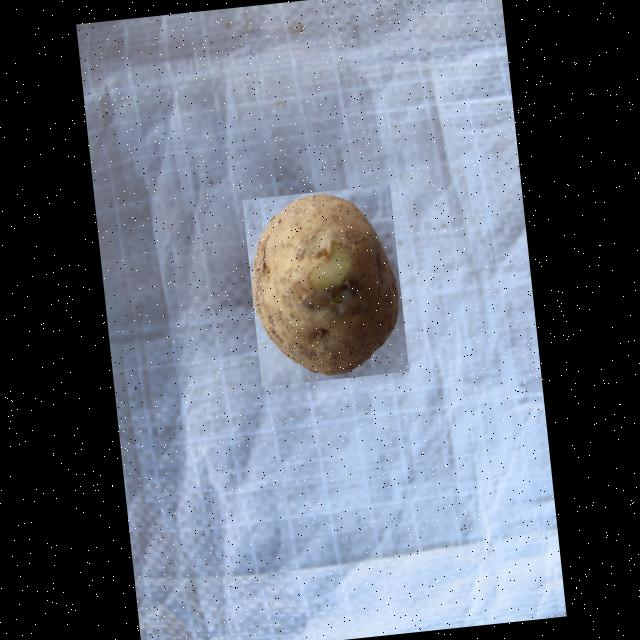Diseased-fungal potato: (241, 185, 408, 386)
